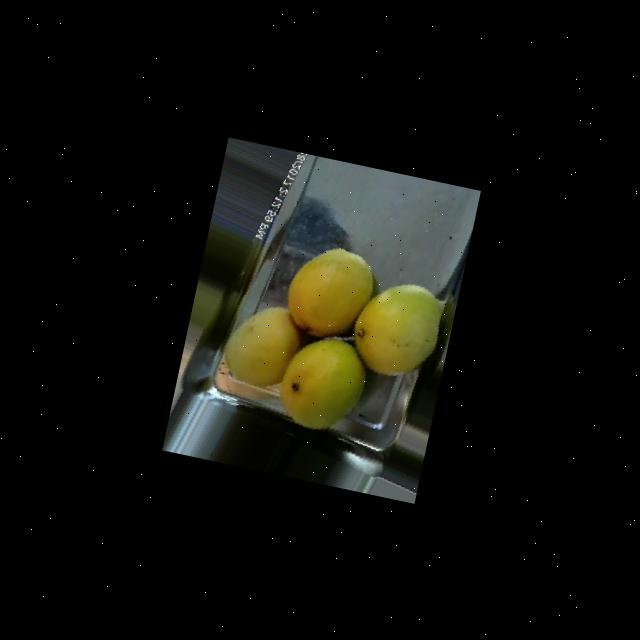Mango: (344, 274, 446, 384), (271, 328, 372, 437), (277, 238, 378, 344), (216, 296, 306, 394)
